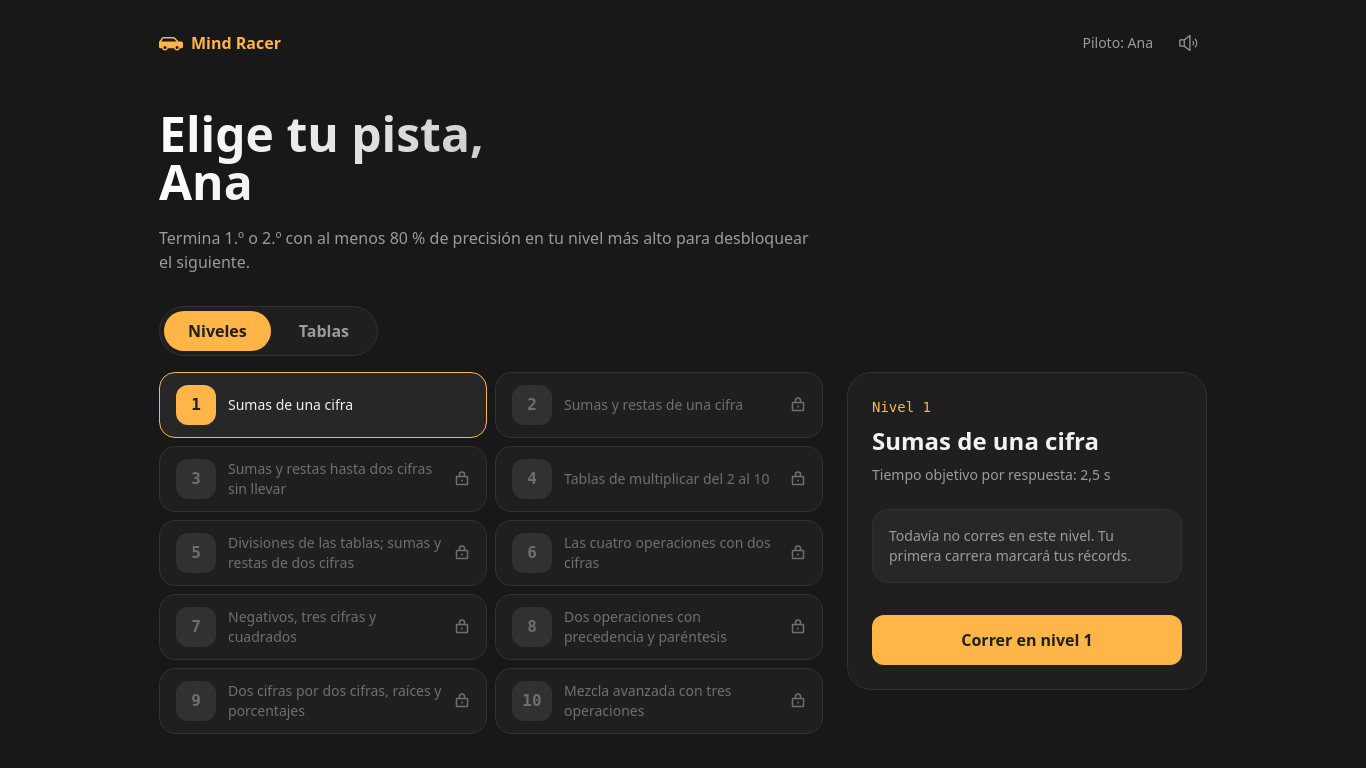
Test case: Menu: práctica de tablas › sin tablas elegidas no se puede correr (Ninguna tabla)
Click the button "Tablas".
click(324, 331)  # box x1=275 y1=311 x2=373 y2=351
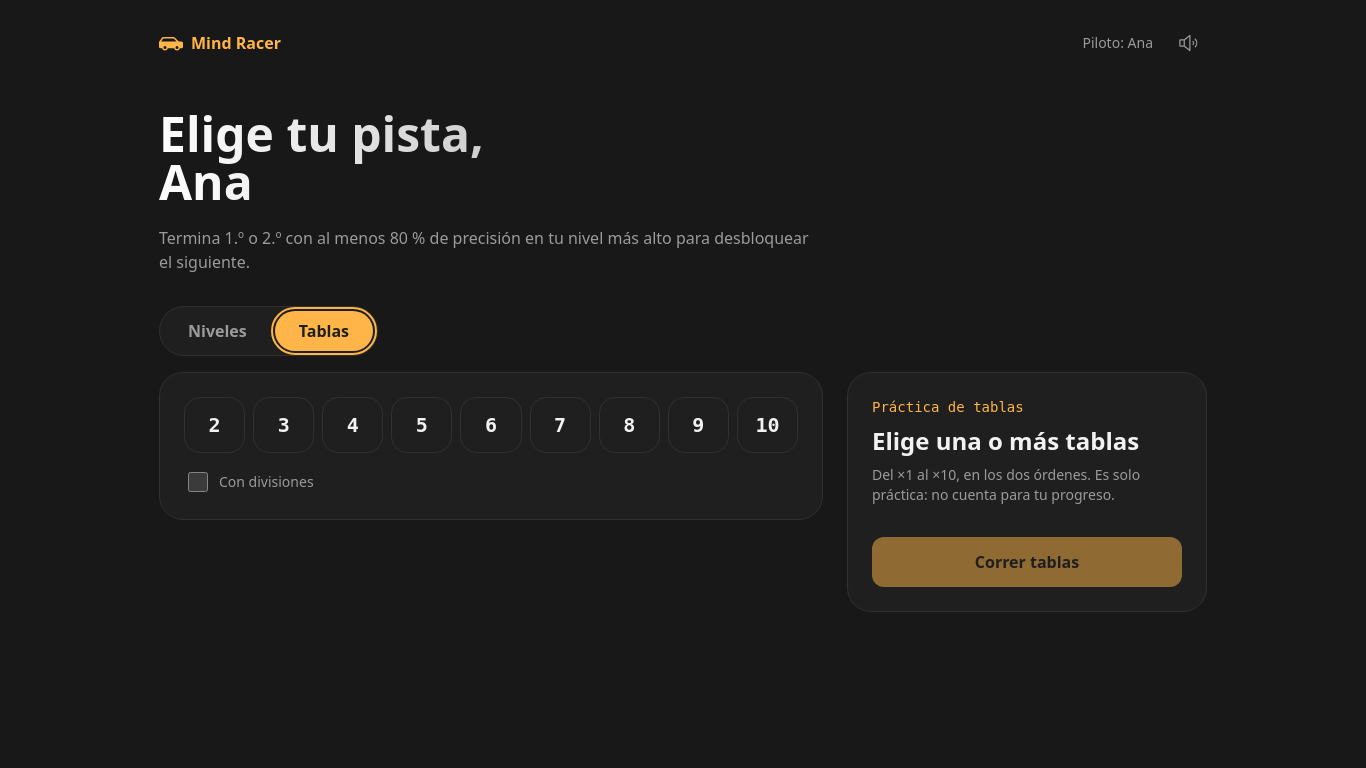
Result: the button "Correr tablas" is disabled at x1=872 y1=537 x2=1182 y2=587
